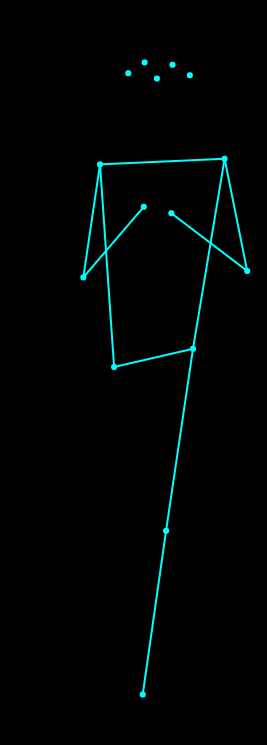tree: (70, 53, 255, 701)
